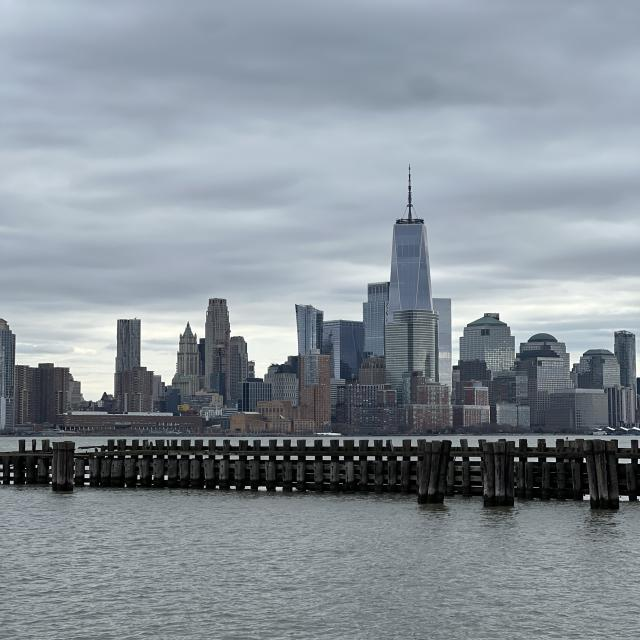WTC: (386, 160, 436, 308)
